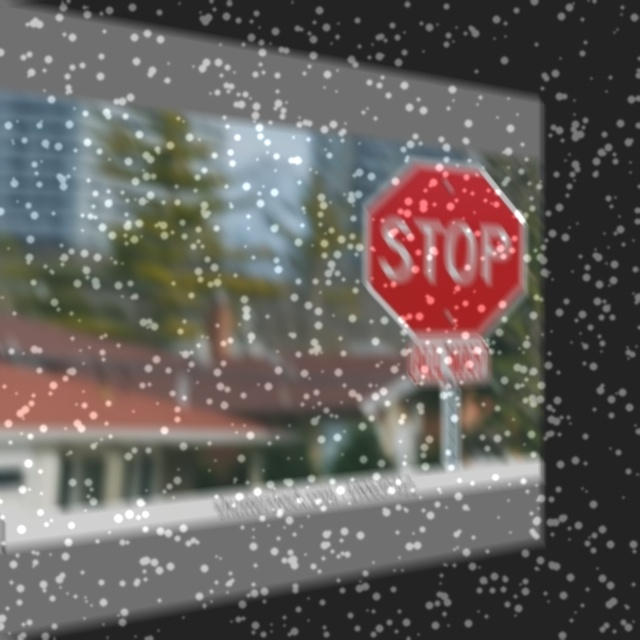Stop: (365, 152, 526, 340)
